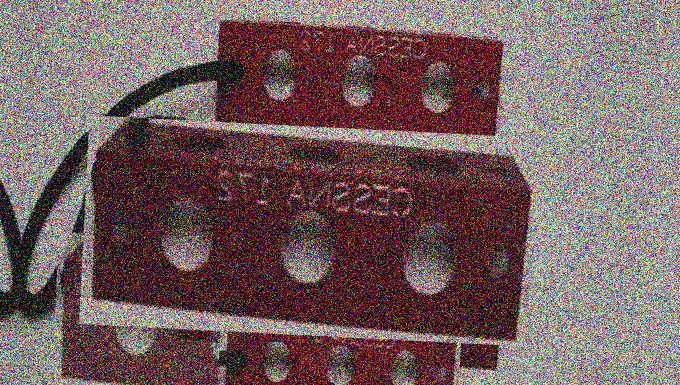chock: (79, 115, 539, 347), (166, 199, 513, 375), (51, 232, 412, 385), (204, 15, 509, 147), (217, 312, 462, 385)
